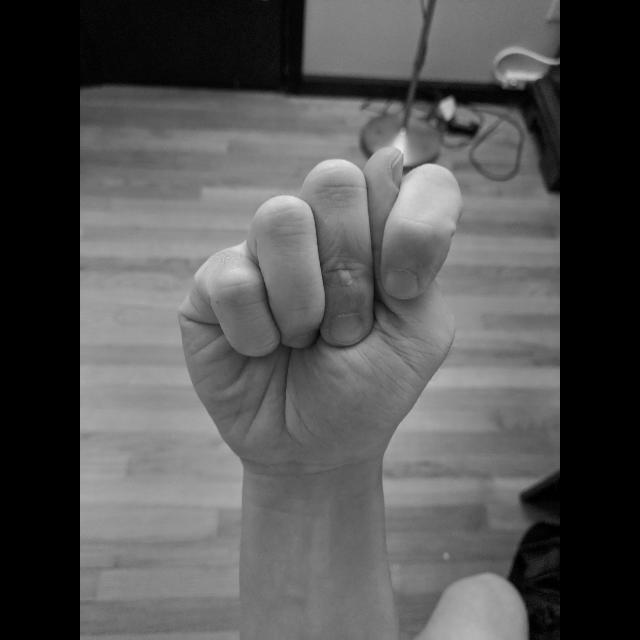T: (170, 141, 468, 485)
